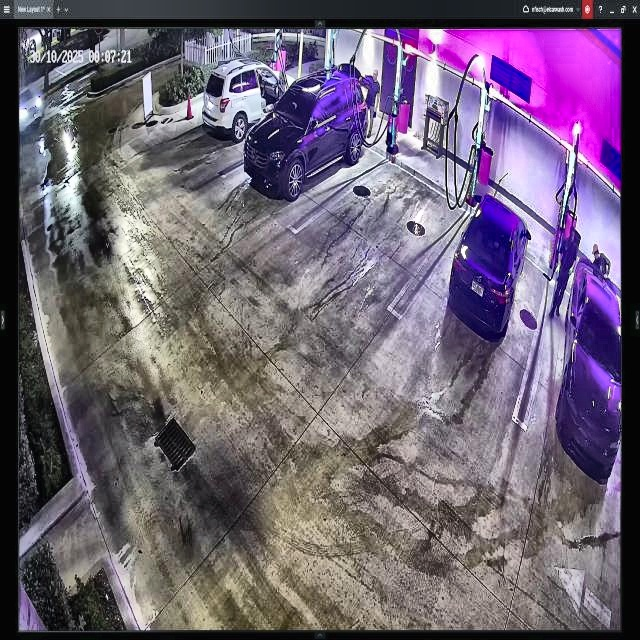Car: (244, 66, 368, 192), (448, 193, 529, 339), (202, 63, 296, 141)
